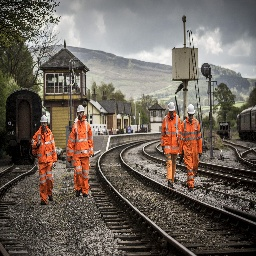helmet: (34, 110, 49, 121), (75, 105, 86, 114), (186, 104, 195, 114), (167, 101, 175, 111)
person: (66, 101, 95, 200), (31, 110, 59, 206), (182, 96, 204, 194), (161, 99, 179, 185)
vest: (28, 125, 59, 168), (65, 121, 96, 163), (182, 119, 203, 159), (162, 115, 181, 154)
